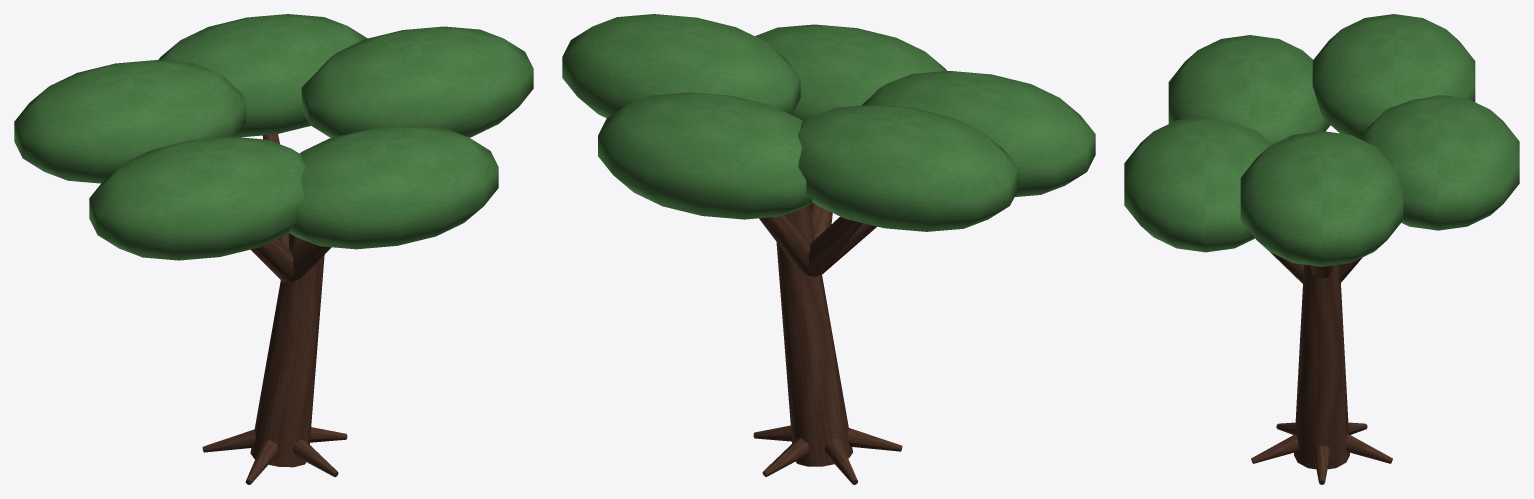
The model's file is acacia.glb.
3 renders of one model, left to right at view 1: azimuth 30°, elevation 25°; view 2: azimuth 150°, elevation 25°; view 3: azimuth 270°, elevation 25°, orthographic. The views are drawn at different scales.
Parts seen in each view (by area): view 1: acacia; view 2: acacia; view 3: acacia.
Part boxes in pixels (box(x1,y1,x2,y2)): acacia: box(14, 14, 533, 484); acacia: box(562, 14, 1095, 484); acacia: box(1124, 14, 1519, 484).
Bounding box in the file's own units: 4.21 × 3.32 × 3.23.
Materials: 2 (2 with a texture image).
